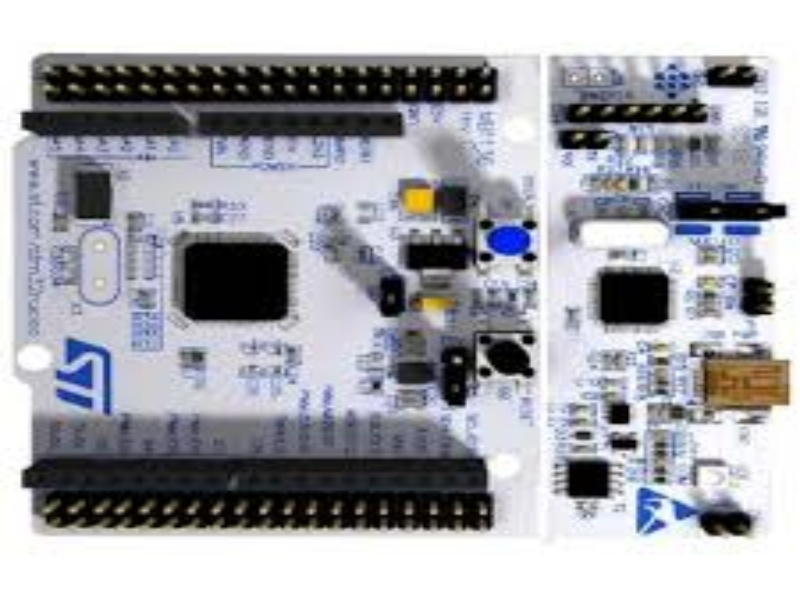stmnucleo: (5, 30, 785, 513)
